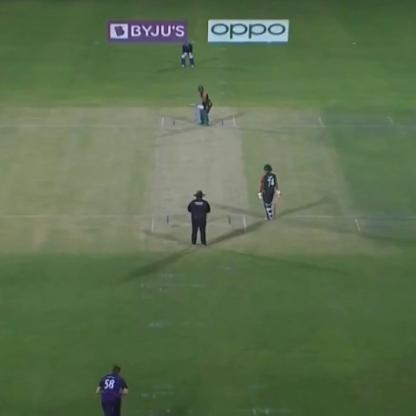pitch: (149, 111, 246, 239)
